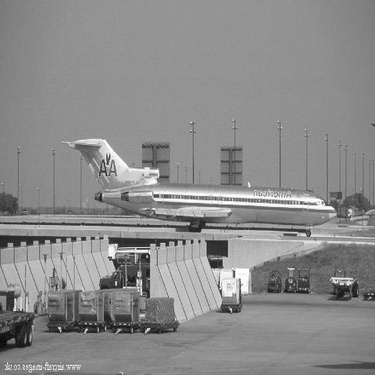airplane: (56, 126, 341, 246)
